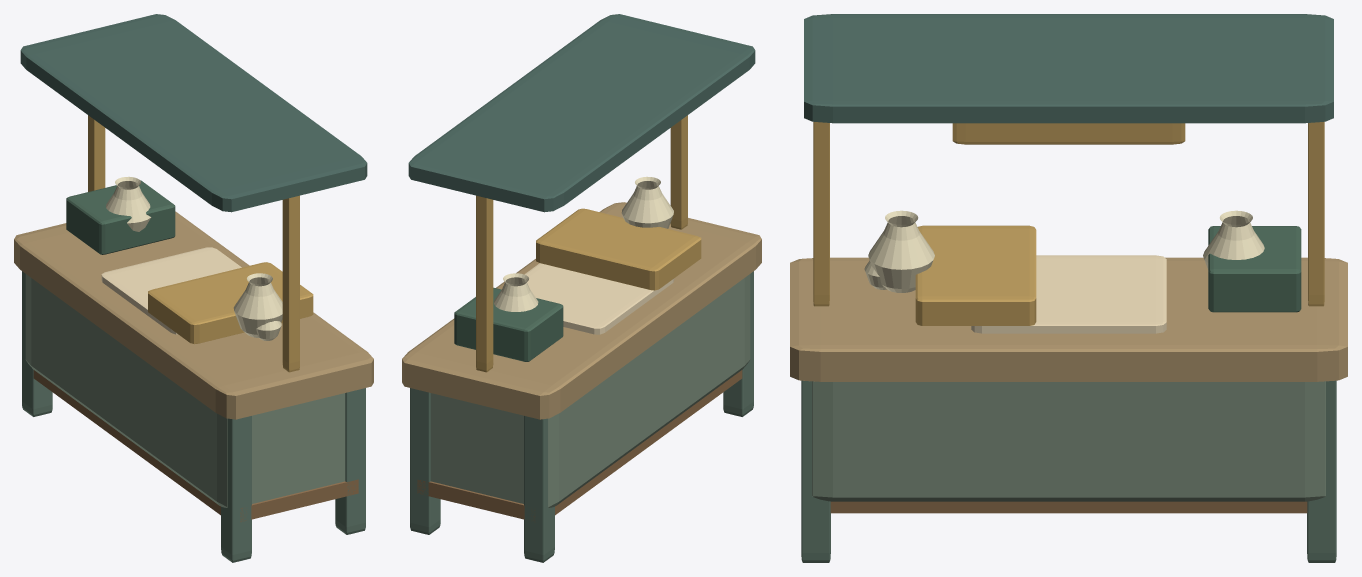
Rendered from serve.glb.
3 views of the same model, side by side, from view 1: azimuth 30°, elevation 25°; view 2: azimuth 150°, elevation 25°; view 3: azimuth 270°, elevation 25° (orthographic). The views are drawn at different scales.
Parts seen in each view (by area): view 1: serve-counter-canopy-015, serve-counter-body-006, serve-counter-top-000, serve-counter-tray-010, serve-counter-till-008, serve-counter-ceramic-007, serve-counter-leg-002, serve-counter-shelf-005, serve-counter-leg-004, serve-counter-post-014, serve-vase-018, serve-vase-017 (+2 smaller); view 2: serve-counter-canopy-015, serve-counter-body-006, serve-counter-top-000, serve-counter-tray-010, serve-counter-ceramic-007, serve-counter-till-008, serve-counter-leg-001, serve-counter-shelf-005, serve-counter-leg-003, serve-counter-post-013, serve-vase-018, serve-counter-post-014 (+2 smaller); view 3: serve-counter-body-006, serve-counter-canopy-015, serve-counter-top-000, serve-counter-tray-010, serve-counter-ceramic-007, serve-counter-till-008, serve-counter-shelf-005, serve-counter-sign-016, serve-vase-018, serve-counter-leg-003, serve-counter-leg-004, serve-counter-post-013 (+2 smaller).
Boxes of the visible parts, <box> form: serve-counter-canopy-015: <box>20,14,367,212</box>; serve-counter-body-006: <box>25,274,345,507</box>; serve-counter-top-000: <box>14,211,373,419</box>; serve-counter-tray-010: <box>148,262,313,344</box>; serve-counter-till-008: <box>66,180,175,254</box>; serve-counter-ceramic-007: <box>101,247,241,334</box>; serve-counter-leg-002: <box>221,416,251,562</box>; serve-counter-shelf-005: <box>33,370,358,521</box>; serve-counter-leg-004: <box>335,388,365,534</box>; serve-counter-post-014: <box>282,195,299,372</box>; serve-vase-018: <box>233,273,282,337</box>; serve-vase-017: <box>106,176,151,231</box>; serve-counter-canopy-015: <box>408,14,755,212</box>; serve-counter-body-006: <box>430,274,750,507</box>; serve-counter-top-000: <box>402,202,761,419</box>; serve-counter-tray-010: <box>536,208,701,290</box>; serve-counter-ceramic-007: <box>524,263,674,334</box>; serve-counter-till-008: <box>454,287,563,361</box>; serve-counter-leg-001: <box>524,416,554,562</box>; serve-counter-shelf-005: <box>417,370,742,522</box>; serve-counter-leg-003: <box>410,388,440,534</box>; serve-counter-post-013: <box>476,195,493,372</box>; serve-vase-018: <box>621,176,673,228</box>; serve-counter-post-014: <box>670,115,687,229</box>; serve-counter-body-006: <box>812,381,1325,501</box>; serve-counter-canopy-015: <box>804,14,1333,123</box>; serve-counter-top-000: <box>790,257,1347,381</box>; serve-counter-tray-010: <box>915,225,1036,325</box>; serve-counter-ceramic-007: <box>971,255,1166,333</box>; serve-counter-till-008: <box>1208,226,1301,312</box>; serve-counter-shelf-005: <box>830,501,1307,513</box>; serve-counter-sign-016: <box>952,123,1185,144</box>; serve-vase-018: <box>868,210,934,292</box>; serve-counter-leg-003: <box>1307,380,1336,562</box>; serve-counter-leg-004: <box>801,380,830,562</box>; serve-counter-post-013: <box>1308,122,1324,306</box>.
Size of the model in its own units: 1.2 by 2.75 by 3.
